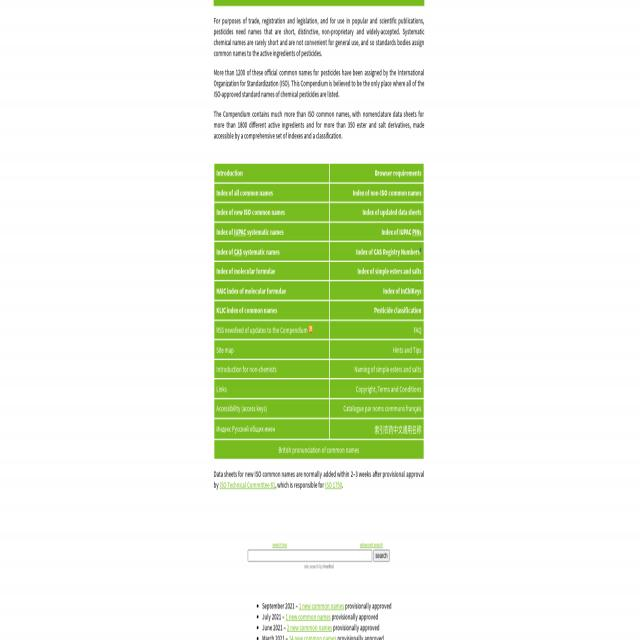button: (373, 549, 390, 561), (308, 325, 312, 332)
field: (248, 550, 372, 561)
